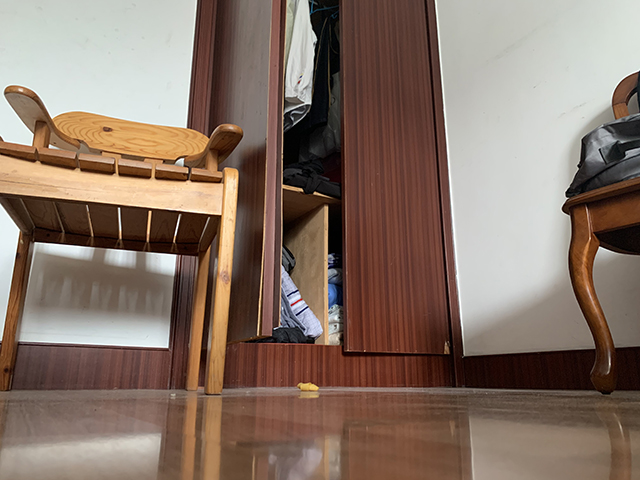cabinet: (167, 1, 467, 391)
stool: (1, 82, 245, 395)
